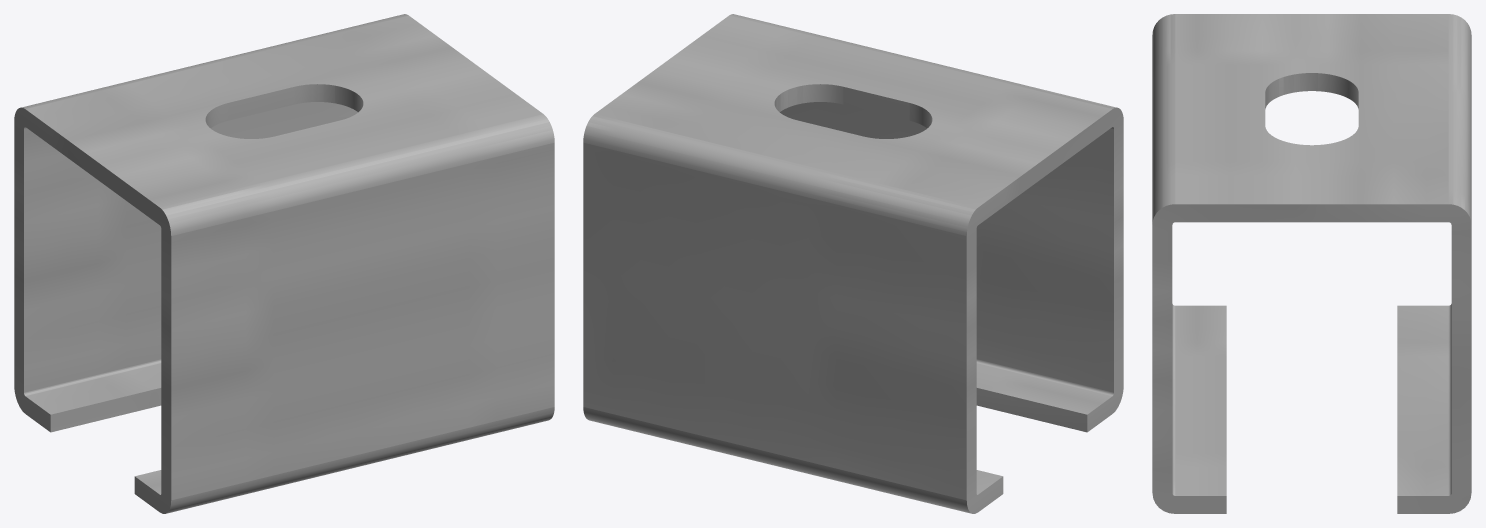
File: CONSOLE2.glb
3 views of the same model, side by side, from view 1: azimuth 30°, elevation 25°; view 2: azimuth 150°, elevation 25°; view 3: azimuth 270°, elevation 25° (orthographic).
Parts seen in each view (by area): view 1: 28_30 O; view 2: 28_30 O; view 3: 28_30 O.
Part boxes in pixels (box(x1,y1,x2,y2)): 28_30 O: box(14, 14, 554, 513); 28_30 O: box(583, 14, 1123, 513); 28_30 O: box(1152, 14, 1471, 513).
Bounding box in the file's own units: 39.5 × 30 × 28.
Materials: 1 (1 with a texture image).
